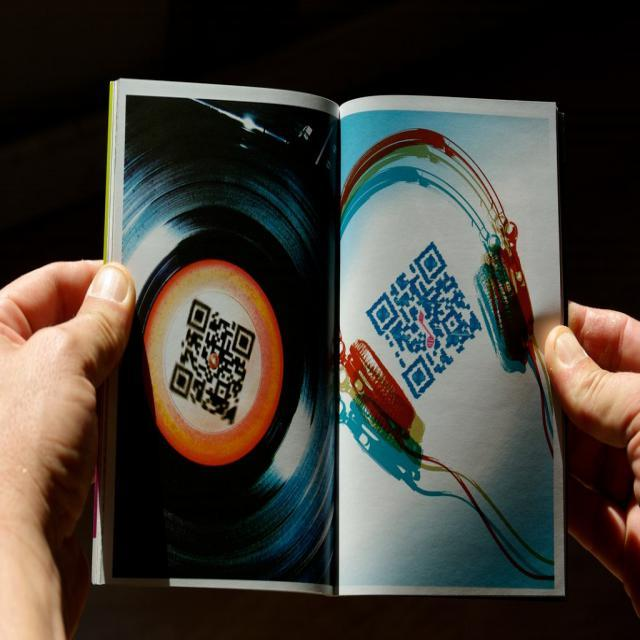qrcode: (367, 242, 483, 400), (170, 299, 257, 425)
